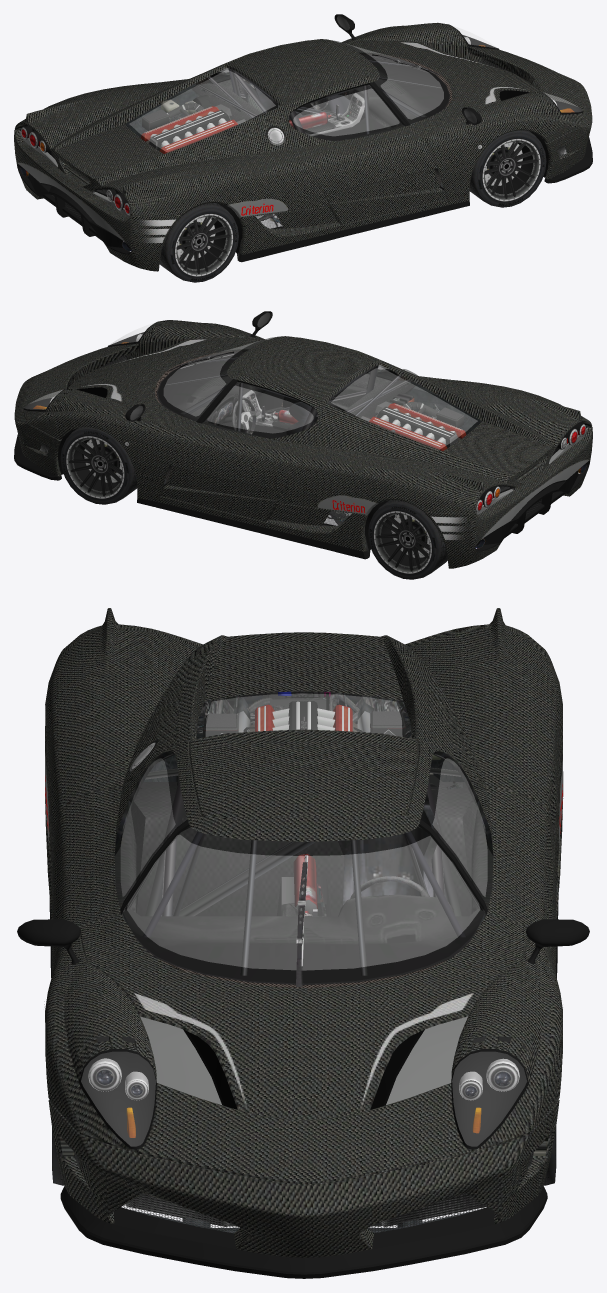
Rendered from jansx12.glb.
3 views of the same model, one above another, from view 1: azimuth 30°, elevation 25°; view 2: azimuth 150°, elevation 25°; view 3: azimuth 270°, elevation 25° (orthographic). The views are drawn at different scales.
Visible parts, largest first — view 1: 1A_6A_CA_C7, D4_22_50_05, D4_ED_92_88, DB_6D_E3_20, 6A_6E_47_CD, 3C_41_32_63, 16_CB_40_AC, BC_FC_99_16, 5D_04_7B_D3, 5D_04_7B_D3.001, E1_B5_78_E1, 65_4D_39_19 (+10 smaller); view 2: D4_22_50_05, 1A_6A_CA_C7, 61_3D_E4_A8, E1_B5_78_E1, 6A_6E_47_CD, 75_49_3C_EF, 16_CB_40_AC, AD_85_82_7A, 5D_04_7B_D3.003, 5D_04_7B_D3.002, DB_6D_E3_20, 2B_B9_00_3A (+8 smaller); view 3: 1A_6A_CA_C7, 6A_6E_47_CD, 71_58_06_4D, 9A_4A_5C_C9, D4_22_50_05, E1_B5_78_E1, DB_6D_E3_20, 3C_41_32_63, 75_49_3C_EF, 61_3D_E4_A8, D4_ED_92_88, DF_2F_2B_62 (+9 smaller).
Boxes of the visible parts, left/top/right/bottom form: 1A_6A_CA_C7: left=103, top=39, right=564, bottom=253; D4_22_50_05: left=51, top=64, right=288, bottom=188; D4_ED_92_88: left=284, top=78, right=446, bottom=224; DB_6D_E3_20: left=86, top=149, right=330, bottom=217; 6A_6E_47_CD: left=344, top=40, right=583, bottom=138; 3C_41_32_63: left=422, top=92, right=583, bottom=209; 16_CB_40_AC: left=125, top=68, right=279, bottom=153; BC_FC_99_16: left=237, top=199, right=451, bottom=262; 5D_04_7B_D3: left=159, top=203, right=238, bottom=282; 5D_04_7B_D3.001: left=469, top=130, right=546, bottom=207; E1_B5_78_E1: left=15, top=79, right=188, bottom=171; 65_4D_39_19: left=289, top=83, right=404, bottom=140; D4_22_50_05: left=318, top=361, right=555, bottom=485; 1A_6A_CA_C7: left=40, top=336, right=505, bottom=550; 61_3D_E4_A8: left=160, top=375, right=322, bottom=521; E1_B5_78_E1: left=277, top=446, right=520, bottom=514; 6A_6E_47_CD: left=23, top=337, right=262, bottom=435; 75_49_3C_EF: left=23, top=389, right=184, bottom=506; 16_CB_40_AC: left=327, top=365, right=481, bottom=450; AD_85_82_7A: left=155, top=496, right=370, bottom=559; 5D_04_7B_D3.003: left=368, top=500, right=447, bottom=579; 5D_04_7B_D3.002: left=60, top=427, right=137, bottom=504; DB_6D_E3_20: left=418, top=376, right=591, bottom=468; 2B_B9_00_3A: left=202, top=381, right=317, bottom=437; 1A_6A_CA_C7: left=121, top=691, right=528, bottom=1233; 6A_6E_47_CD: left=80, top=913, right=527, bottom=1184; 71_58_06_4D: left=123, top=824, right=485, bottom=982; 9A_4A_5C_C9: left=78, top=1150, right=489, bottom=1278; D4_22_50_05: left=122, top=632, right=485, bottom=786; E1_B5_78_E1: left=405, top=608, right=563, bottom=888; DB_6D_E3_20: left=45, top=608, right=202, bottom=891; 3C_41_32_63: left=44, top=935, right=156, bottom=1152; 75_49_3C_EF: left=451, top=937, right=562, bottom=1152; 61_3D_E4_A8: left=406, top=741, right=556, bottom=975; D4_ED_92_88: left=52, top=741, right=201, bottom=974; DF_2F_2B_62: left=419, top=1099, right=559, bottom=1256.
Bounding box in the file's own units: 4.86 × 1.23 × 2.34.
Materials: 35 (33 with a texture image).
